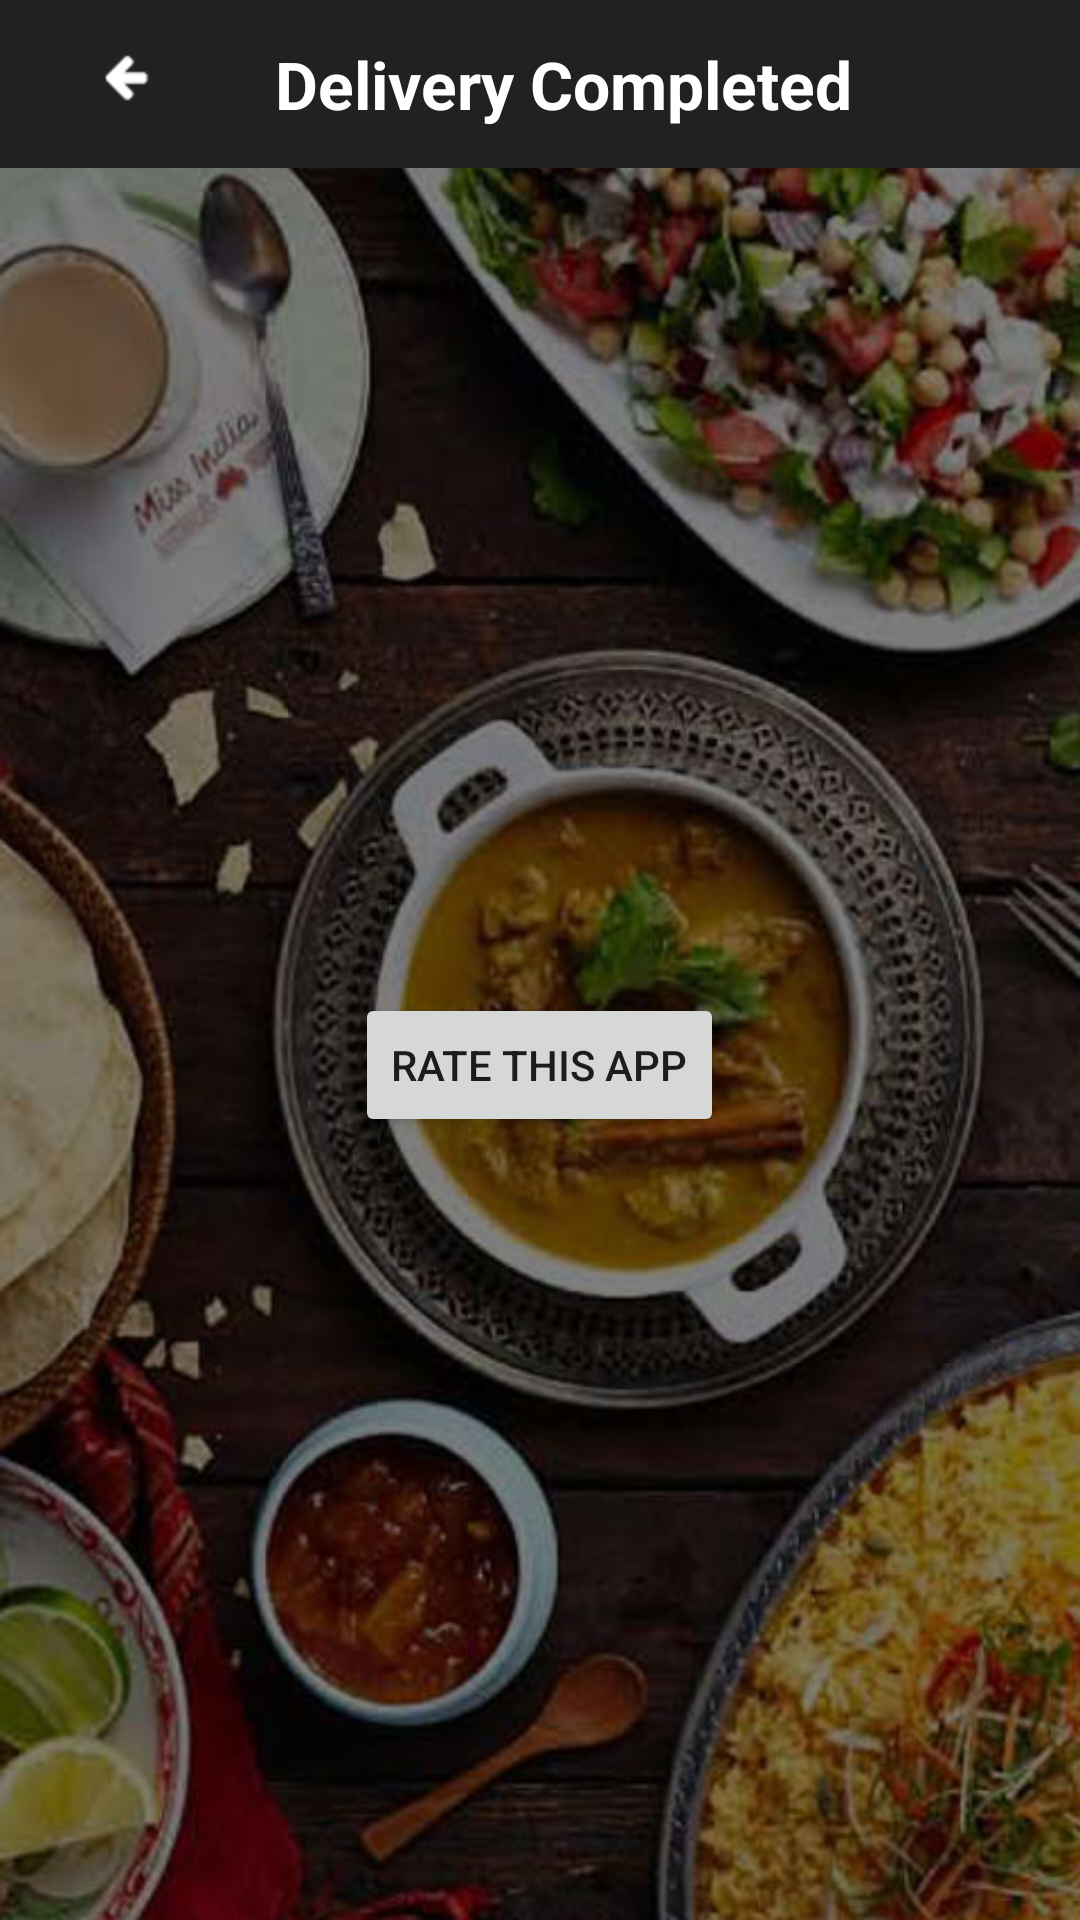

Icon click points for this 1080px×1920px phone screenshot, format (x=x, y=y):
arrow back: (x=127, y=78)
